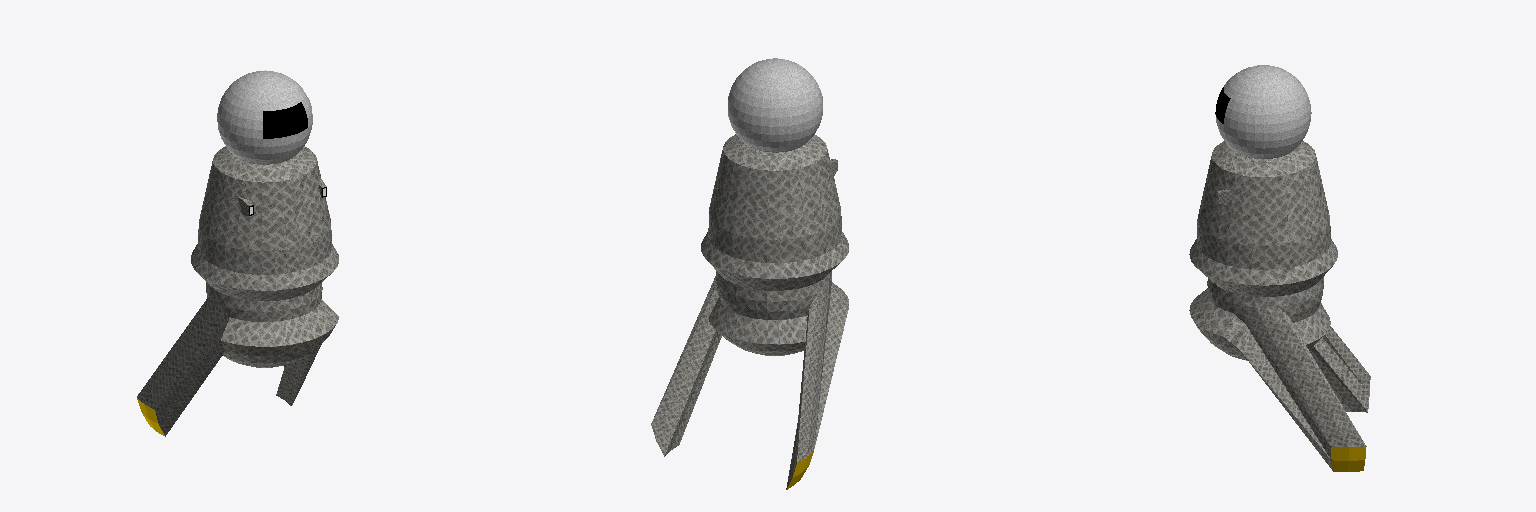
3 views of the same model, side by side, from view 1: azimuth 30°, elevation 25°; view 2: azimuth 150°, elevation 25°; view 3: azimuth 270°, elevation 25° (orthographic).
Visible parts, largest first — view 1: Sphere; view 2: Sphere; view 3: Sphere.
Part boxes in pixels (x1,y1,x2,y2): Sphere: (137,70,338,436); Sphere: (651,58,848,489); Sphere: (1189,65,1370,471).
Bounding box in the file's own units: 1.86 × 4.39 × 1.93.
1 materials, 1 textured.